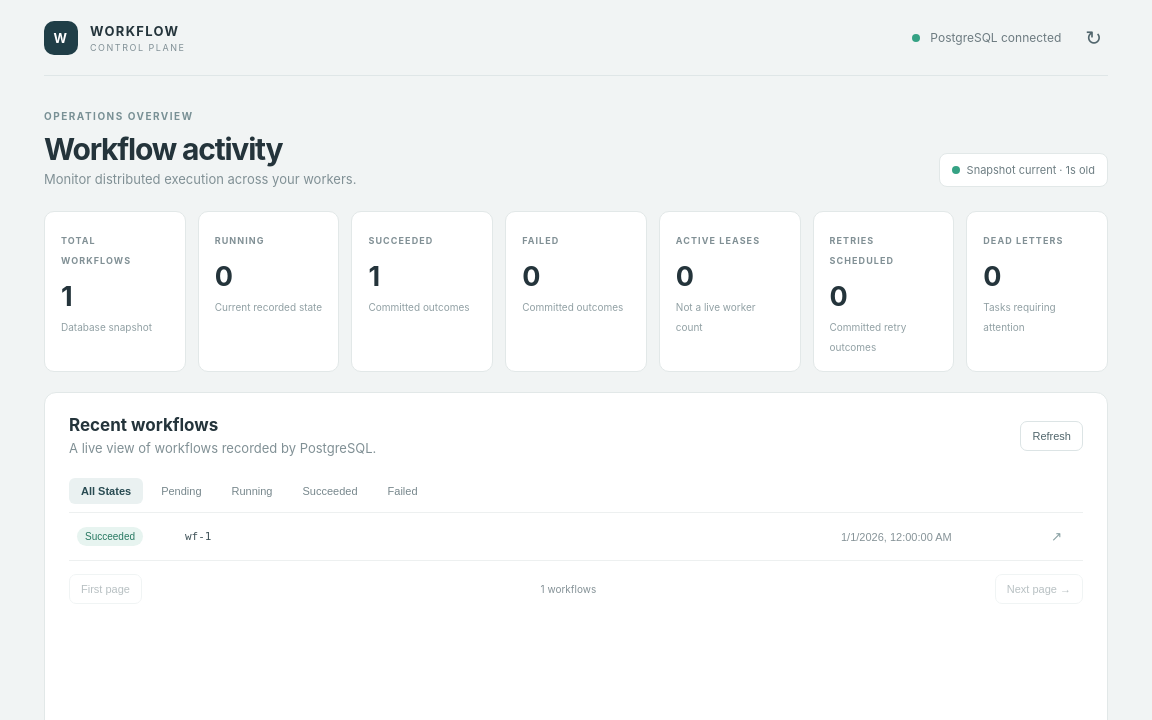
Scenario: dashboard › shows actual workflow, summary, tasks and attempt history
Expected: the text "1" below "TOTAL WORKFLOWS" is shown, x1=61 y1=280 x2=72 y2=313
Step 1. Click the text "wf-1" → (198, 536), box x1=185 y1=530 x2=212 y2=543
(page scrolled)
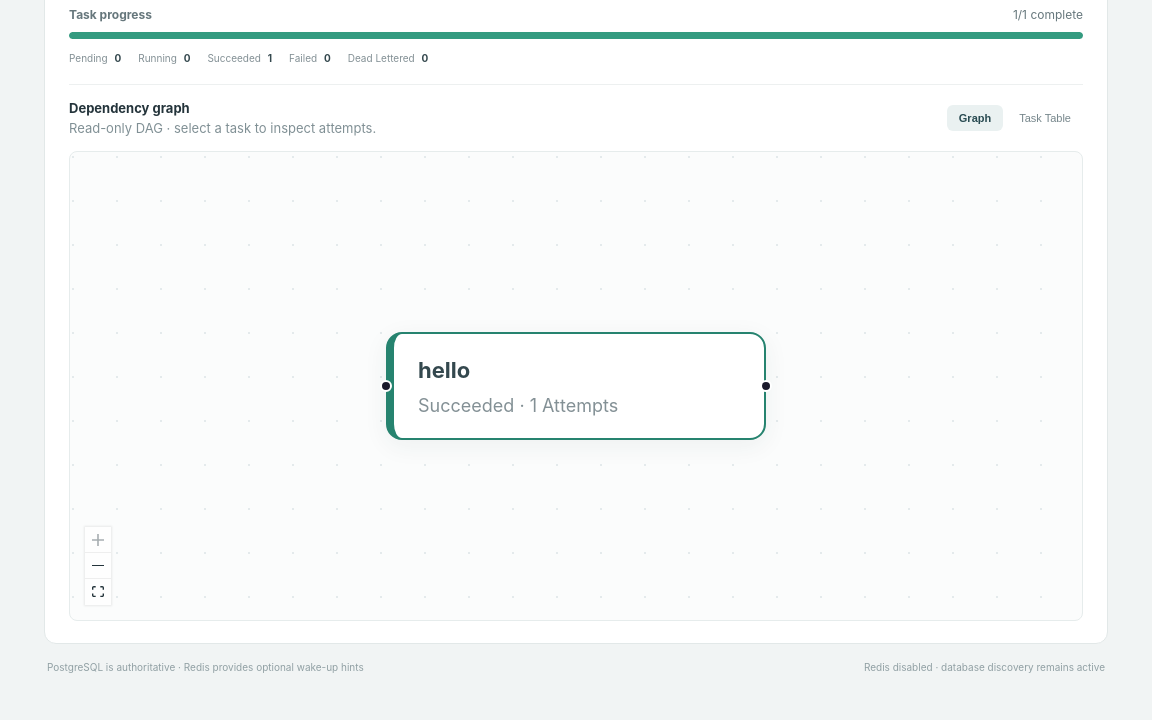
Expected: the heading "Dependency graph" is shown, x1=69 y1=100 x2=190 y2=116
Step 2. Click the text "hello" → (444, 370), box x1=418 y1=356 x2=470 y2=384
(page scrolled)
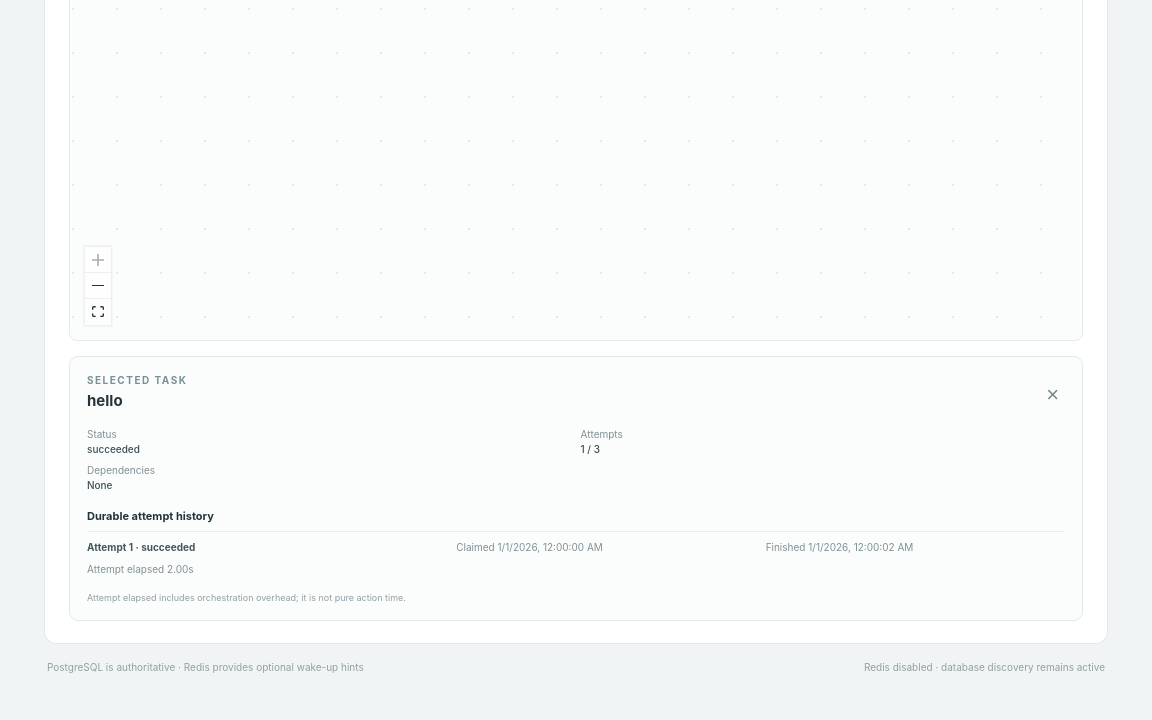
Expected: the text "Attempt 1 · succeeded" is shown, x1=87 y1=541 x2=195 y2=553
